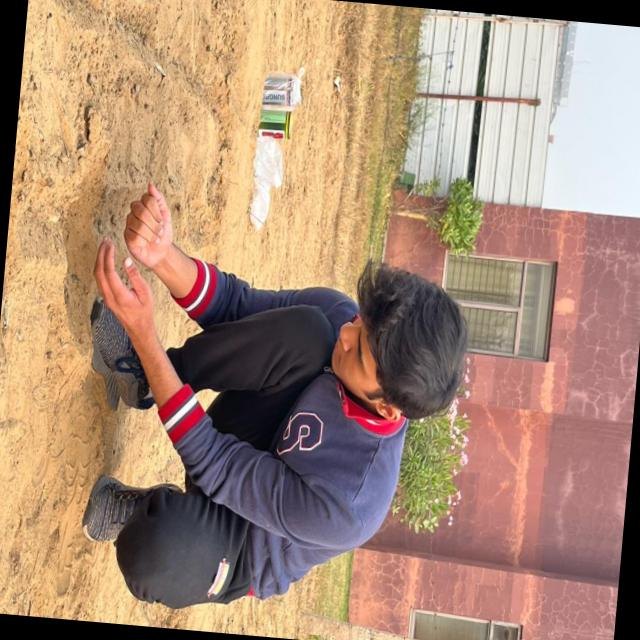Animals: (58, 211, 486, 631)
